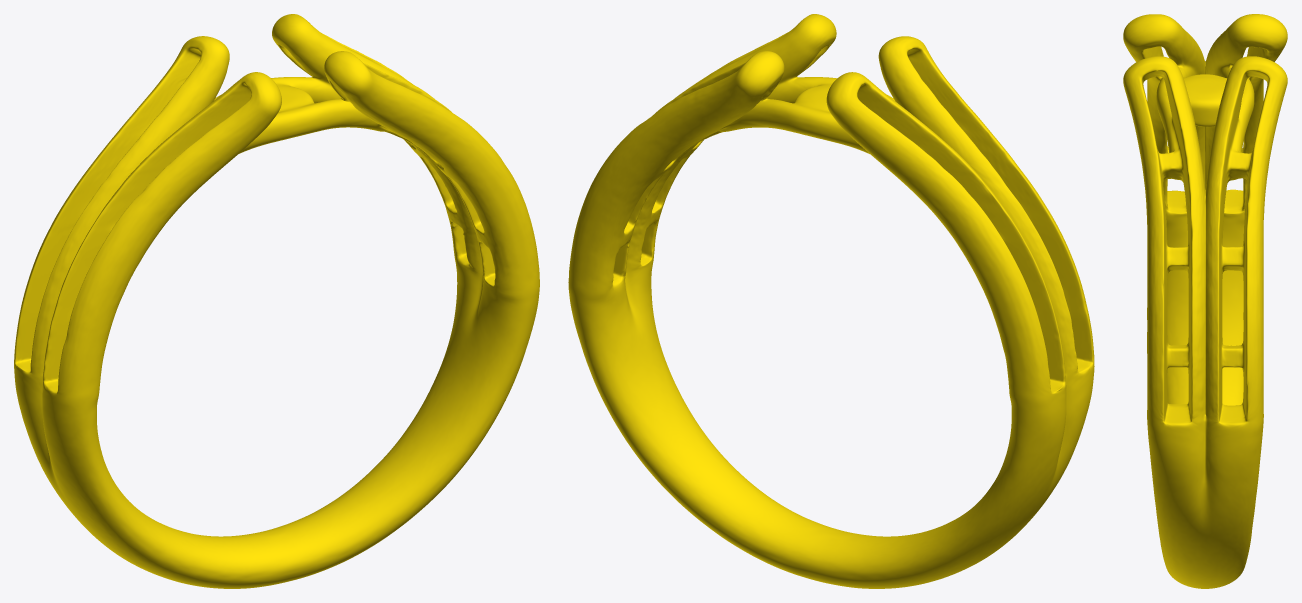
The model's file is Shank_Two row split_Channel_A_No, Hidden Halo_Band.glb.
3 renders of one model, left to right at view 1: azimuth 30°, elevation 25°; view 2: azimuth 150°, elevation 25°; view 3: azimuth 270°, elevation 25°, orthographic.
Size of the model in its own units: 0.0213 by 0.0222 by 0.00631.
